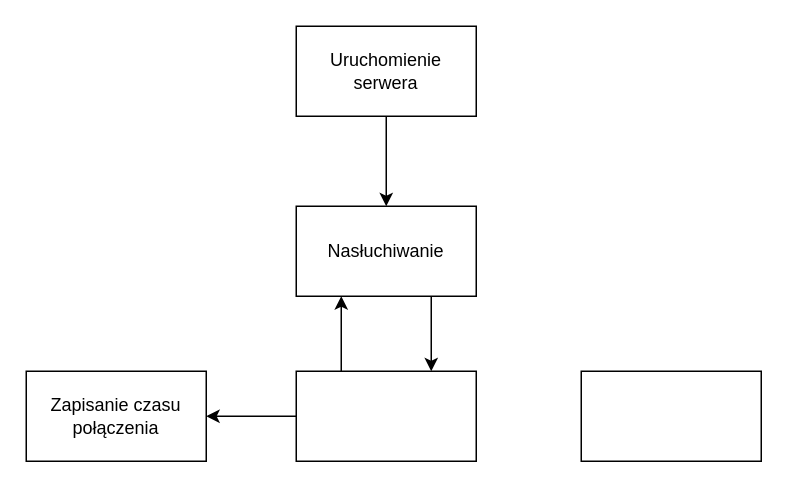
Image size: 788x488. Some labels were removed from this diagram. The shapes that lost their labels are listed below. From the top down, each one's centre as x and y in pixels, then its label:
At point (385, 415): "Połączenie klienta z serwerem".
At point (670, 415): "Oczekiwanie na".
